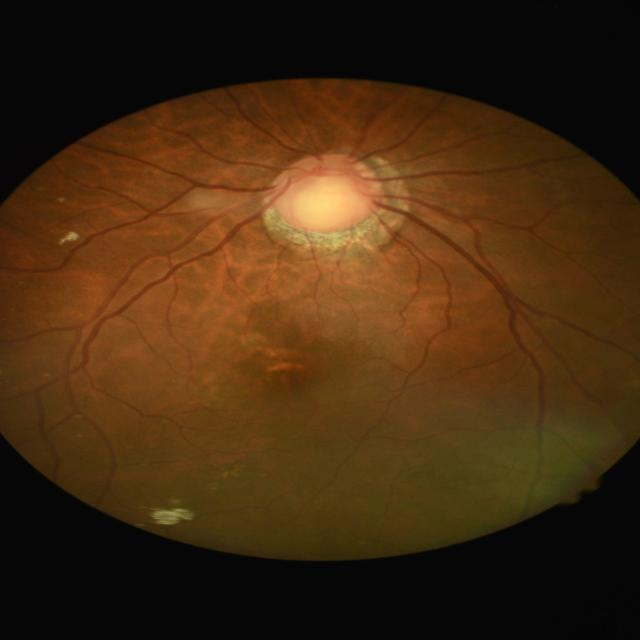cup: (287, 162, 368, 225)
disk: (273, 152, 385, 232)
